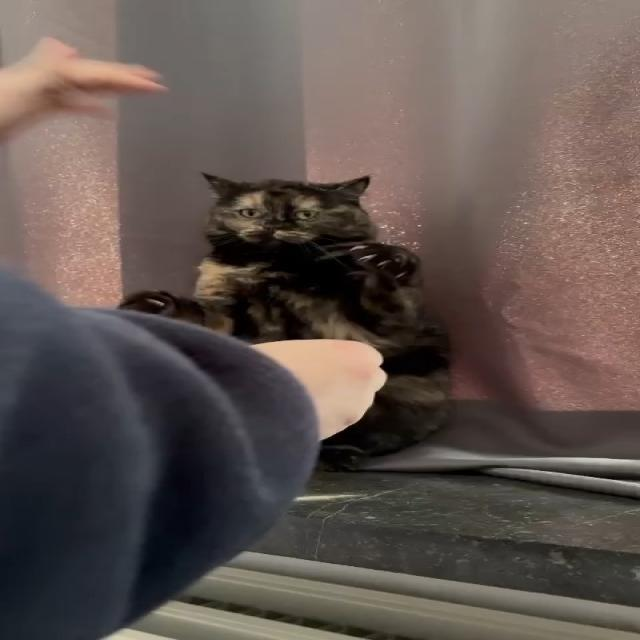authorized: (116, 171, 455, 471)
